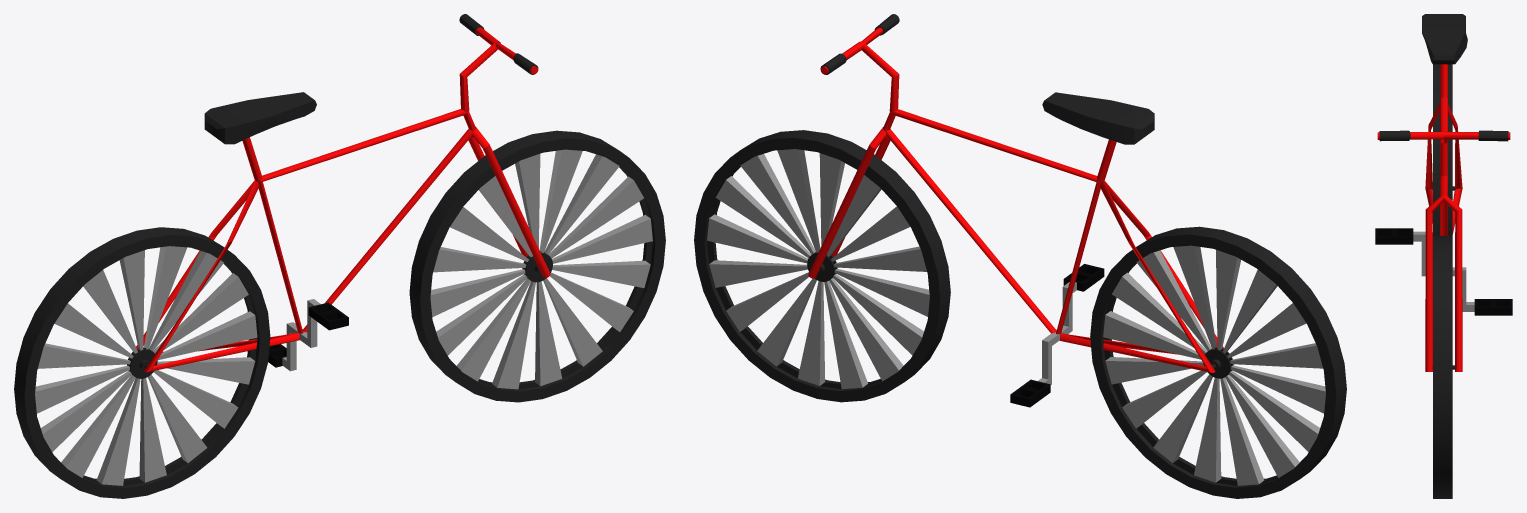
File: bike1.fbx
The picture shows the model from 3 angles, left to right: view 1: azimuth 30°, elevation 25°; view 2: azimuth 150°, elevation 25°; view 3: azimuth 270°, elevation 25°; orthographic projection. The views are drawn at different scales.
Visible parts, largest first — view 1: bike1; view 2: bike1; view 3: bike1.
Part boxes in pixels (bbox=[...]): bike1: bbox=[14, 14, 665, 498]; bike1: bbox=[694, 14, 1346, 498]; bike1: bbox=[1375, 14, 1512, 498].
Bounding box in the file's own units: 369 × 201 × 73.84.
